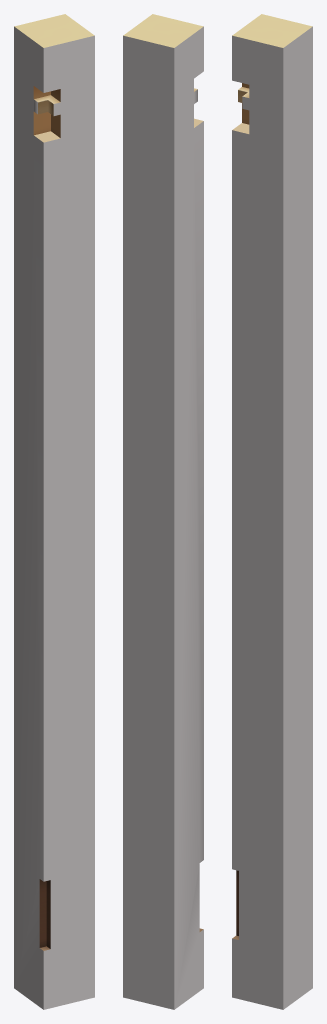
File: my_trinityclassroom_01_wall_side.glb
The picture shows the model from 3 angles, left to right: view 1: azimuth 30°, elevation 25°; view 2: azimuth 150°, elevation 25°; view 3: azimuth 330°, elevation 25°; orthographic projection.
Visible parts, largest first — view 1: my_trinityclassroom_01_wall_side; view 2: my_trinityclassroom_01_wall_side; view 3: my_trinityclassroom_01_wall_side.
Boxes of the visible parts, box(x1,y1,x2,y2) form: my_trinityclassroom_01_wall_side: box(14, 14, 94, 1009); my_trinityclassroom_01_wall_side: box(123, 14, 203, 1009); my_trinityclassroom_01_wall_side: box(232, 14, 312, 1009).
Bounding box in the file's own units: 0.003 × 0.0539 × 0.003.
Materials: 1 (1 with a texture image).
